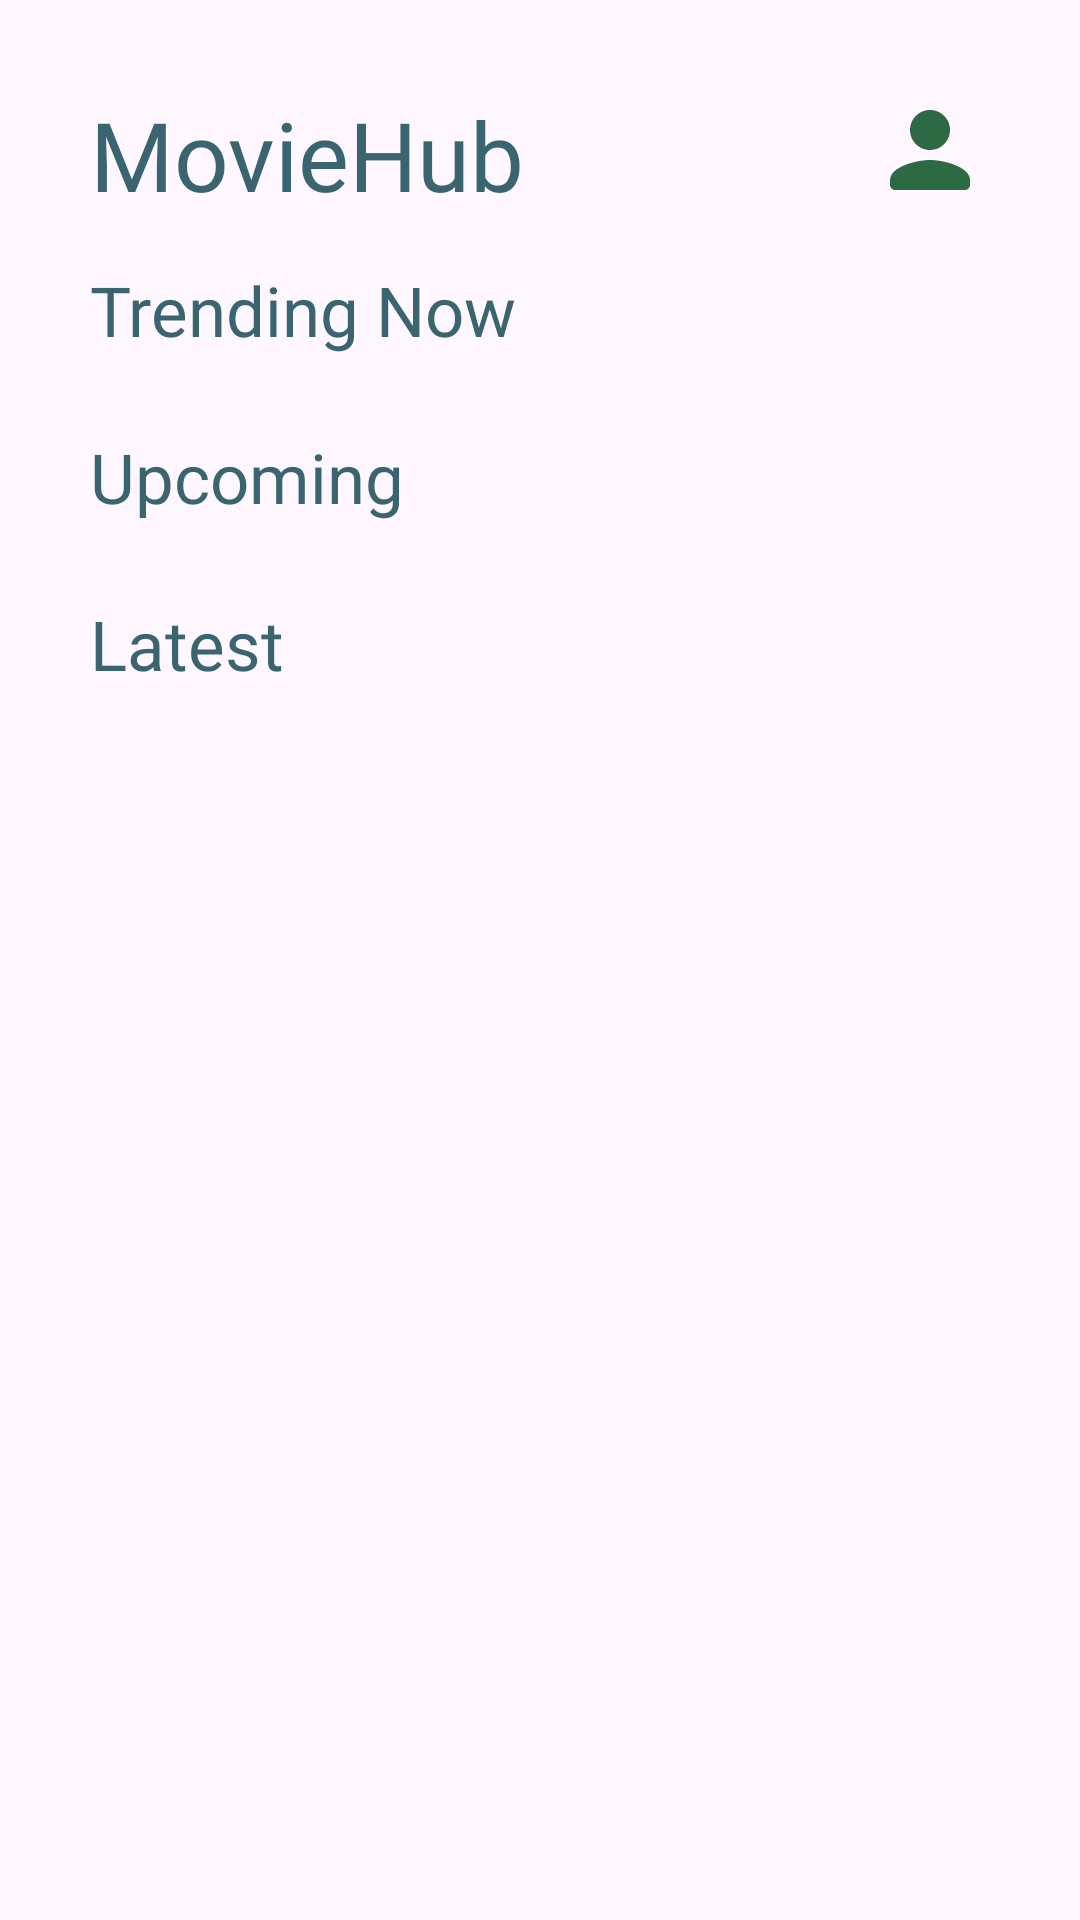

Point at icon controls on the screen. Image size 1080×1920, points as (x,y).
profile: (930,150)
